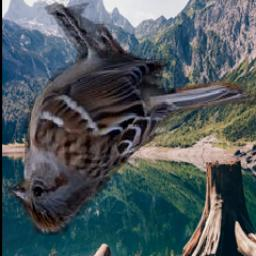Sparrow: (7, 0, 256, 237)
